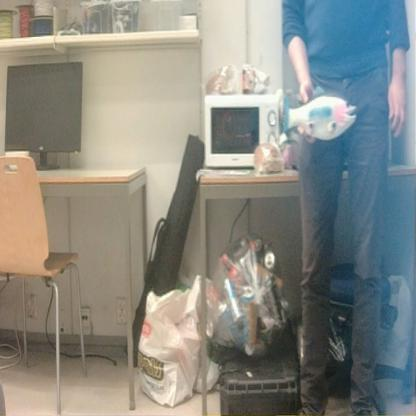rubberfish: (278, 84, 359, 148)
